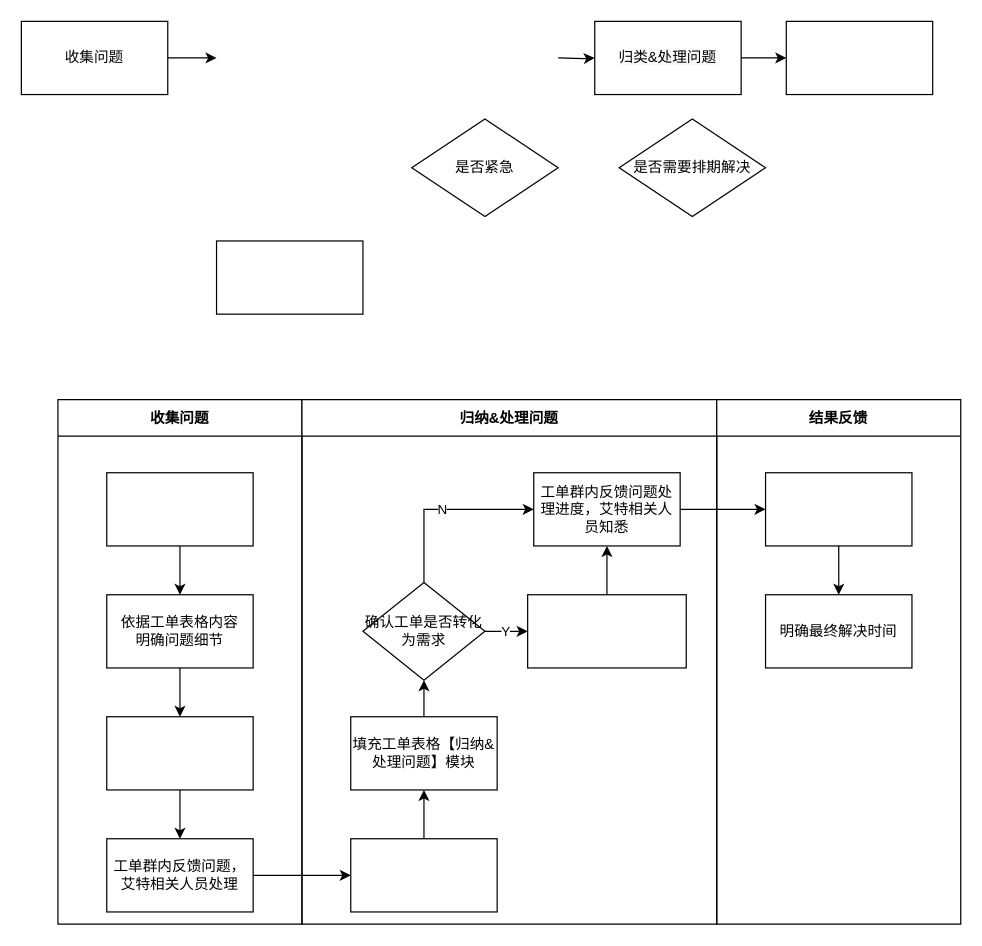
Image size: 982x946. Some labels were removed from this diagram. Each missing label, with the centre of its shape:
依据工单表格内容 明确处理方式: the point at 423,875
反馈进度: the point at 859,57
填充工单表格【收集问题】模块: the point at 179,753
填充需求表格所有模块: the point at 606,631
外部用户/内部体验 反馈产品问题: the point at 179,509
已记录: the point at 289,277
明确工单进度: the point at 838,509
